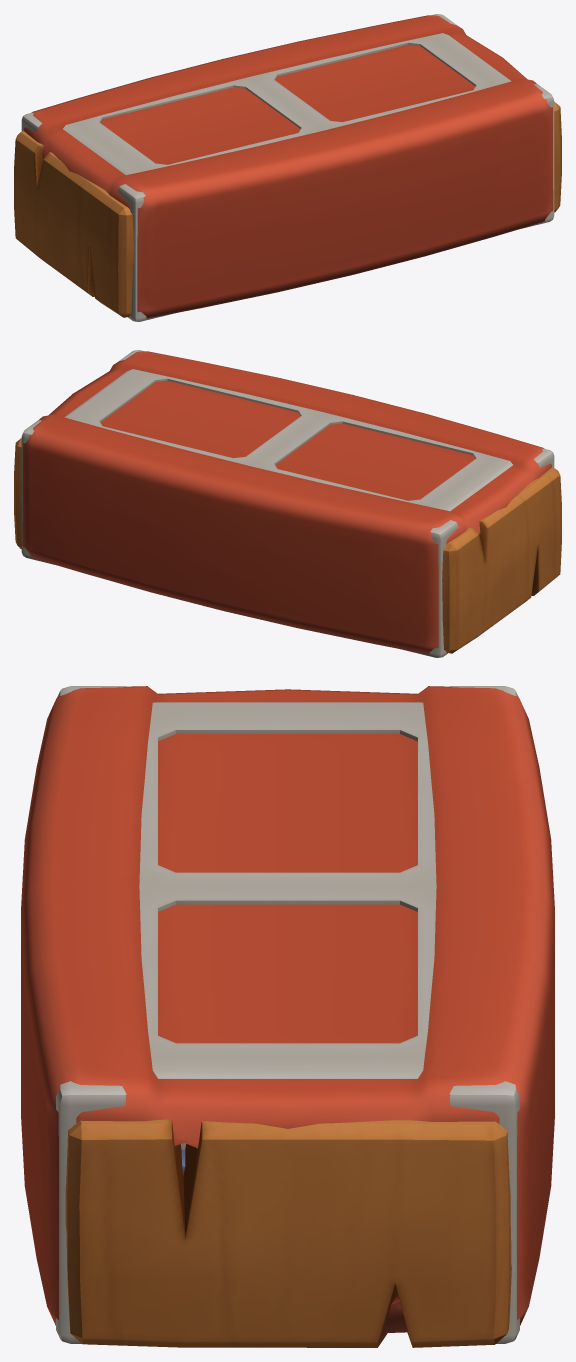
3 views of the same model, one above another, from view 1: azimuth 30°, elevation 25°; view 2: azimuth 150°, elevation 25°; view 3: azimuth 270°, elevation 25° (orthographic). The views are drawn at different scales.
Parts seen in each view (by area): view 1: Brick, Wood, Concrete; view 2: Brick, Wood, Concrete; view 3: Brick, Wood, Concrete.
Part boxes in pixels (bbox=[...]): Brick: bbox=[24, 15, 553, 318]; Wood: bbox=[14, 102, 561, 317]; Concrete: bbox=[21, 14, 554, 321]; Brick: bbox=[22, 351, 551, 654]; Wood: bbox=[14, 438, 561, 653]; Concrete: bbox=[21, 350, 554, 657]; Brick: bbox=[21, 686, 554, 1333]; Wood: bbox=[65, 1119, 511, 1347]; Concrete: bbox=[56, 686, 519, 1343].
Size of the model in its own units: 0.4316 by 0.127 by 0.2224.
